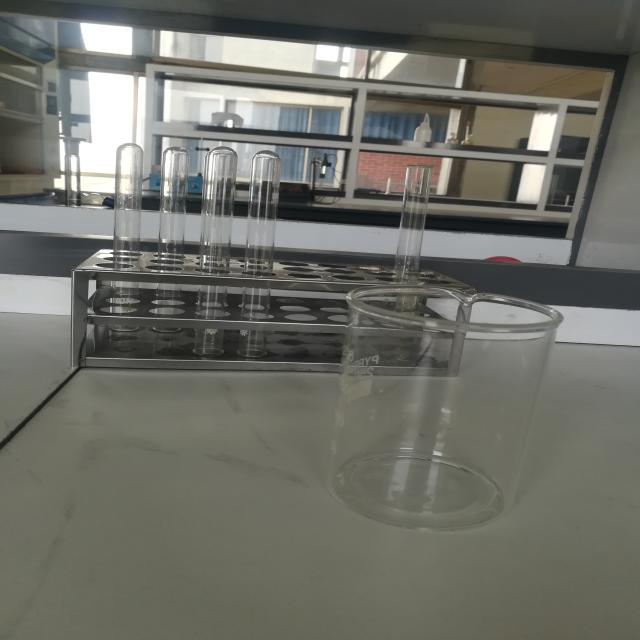Beaker: (325, 236, 569, 570)
Test_Tube: (82, 110, 292, 374)
